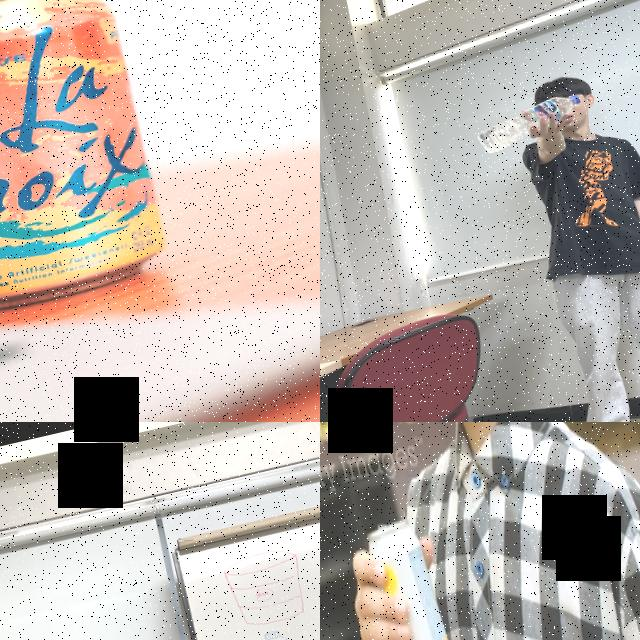bottle: (472, 90, 588, 158)
can: (0, 0, 175, 328), (360, 510, 462, 640)
